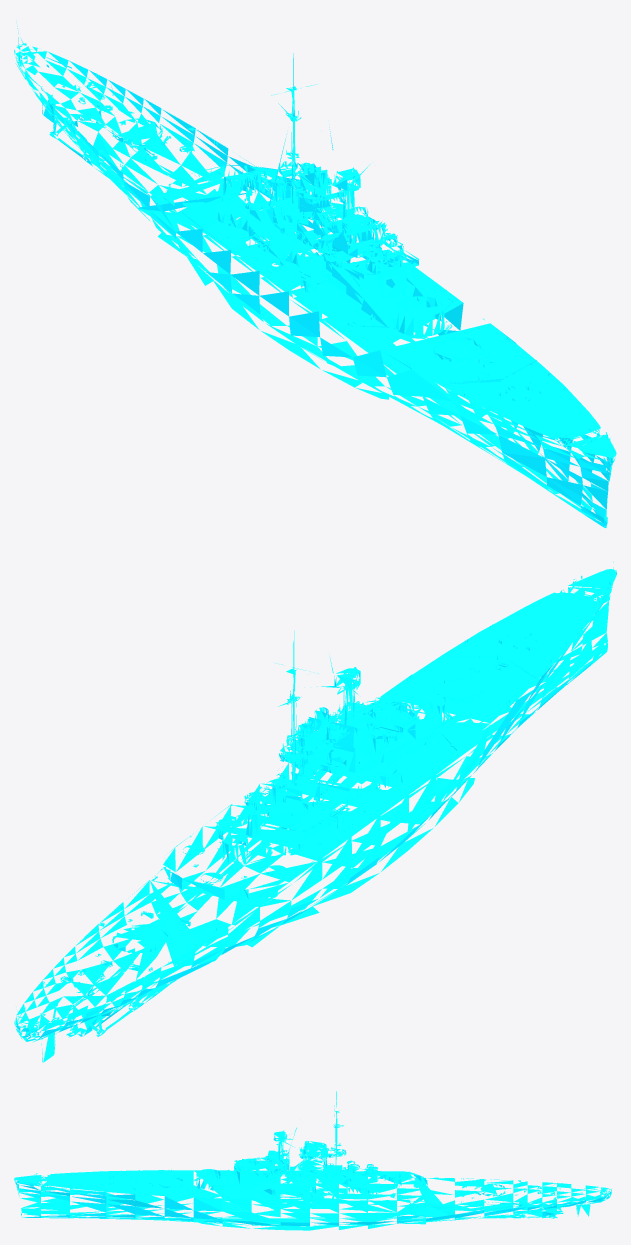
Rendered from Manteuffel.glb.
3 renders of one model, top to bottom at view 1: azimuth 30°, elevation 25°; view 2: azimuth 150°, elevation 25°; view 3: azimuth 270°, elevation 25°, orthographic. The views are drawn at different scales.
Size of the model in its own units: 1.93 by 3.81 by 16.45.
